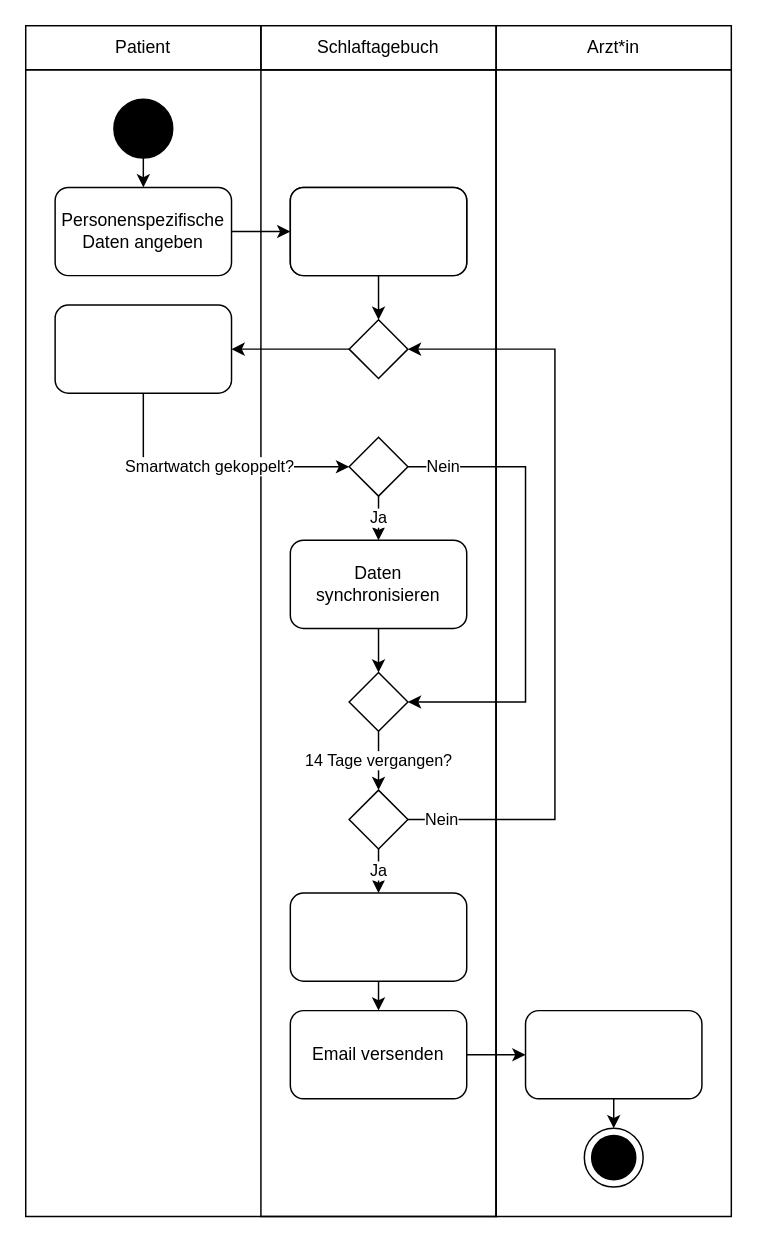
The diagram is 757 pixels wide and 1242 high, and some of its shapes have lost their labels. The shapes that lost their labels are listed below. From the top down, each one's centre as x and y in pixels, then its label:
the point at 378,231: Benachrichtigung senden
the point at 143,348: Schlafprotkoll ausfüllen
the point at 378,936: Bericht erstellen
the point at 613,1054: Bericht bekommen
